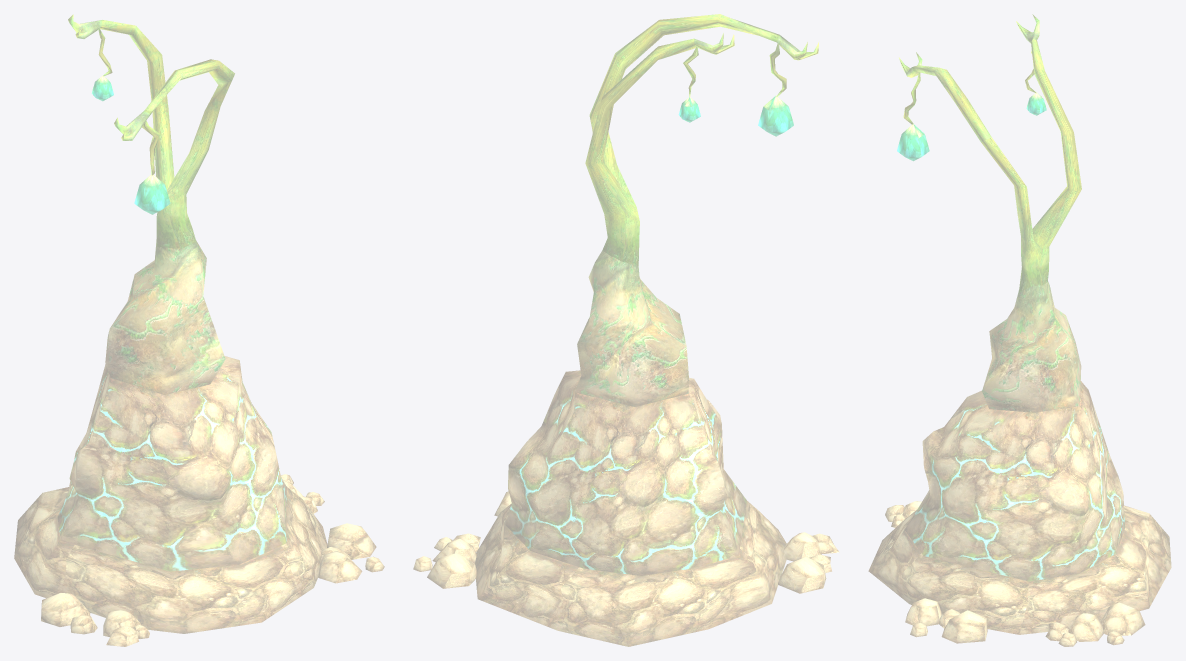
Rendered from jinsi_warrior.glb.
The picture shows the model from 3 angles, left to right: view 1: azimuth 30°, elevation 25°; view 2: azimuth 150°, elevation 25°; view 3: azimuth 270°, elevation 25°; orthographic projection. The views are drawn at different scales.
Parts seen in each view (by area): view 1: jin_ma_confue01_understone, Jin_ma_confue01_stone, Jin_ma_confue01_center, Jin_ma_confue01_up; view 2: jin_ma_confue01_understone, Jin_ma_confue01_stone, Jin_ma_confue01_center, Jin_ma_confue01_up; view 3: jin_ma_confue01_understone, Jin_ma_confue01_stone, Jin_ma_confue01_center, Jin_ma_confue01_up.
Part boxes in pixels (x1,y1,x2,y2): jin_ma_confue01_understone: (57, 356, 286, 571); Jin_ma_confue01_stone: (14, 474, 384, 646); Jin_ma_confue01_center: (105, 239, 225, 394); Jin_ma_confue01_up: (68, 14, 234, 248); jin_ma_confue01_understone: (505, 370, 746, 575); Jin_ma_confue01_stone: (413, 491, 839, 646); Jin_ma_confue01_center: (575, 250, 689, 406); Jin_ma_confue01_up: (585, 14, 819, 265); jin_ma_confue01_understone: (905, 381, 1124, 581); Jin_ma_confue01_stone: (868, 501, 1171, 646); Jin_ma_confue01_center: (982, 281, 1081, 412); Jin_ma_confue01_up: (897, 14, 1081, 292).
Bounding box in the file's own units: 5.35 × 8.63 × 4.62.
Materials: 4 (4 with a texture image).
